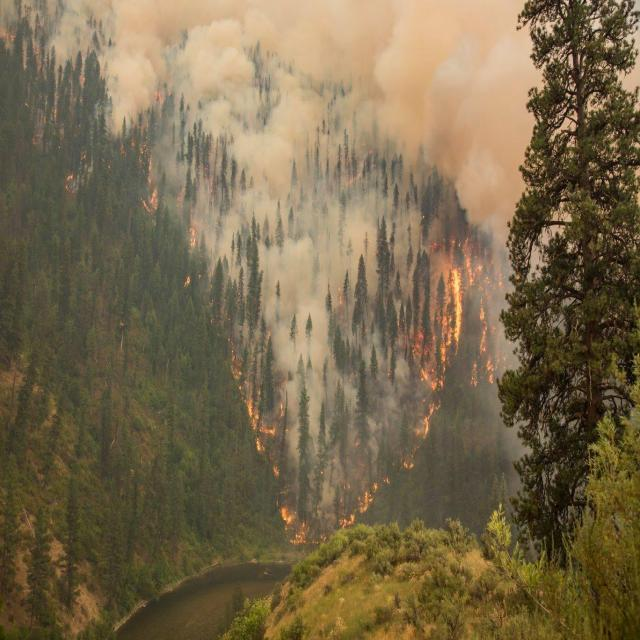Fire: (406, 243, 508, 404), (335, 399, 441, 542), (214, 324, 296, 468), (268, 492, 316, 552)
Smoke: (0, 0, 640, 565)
